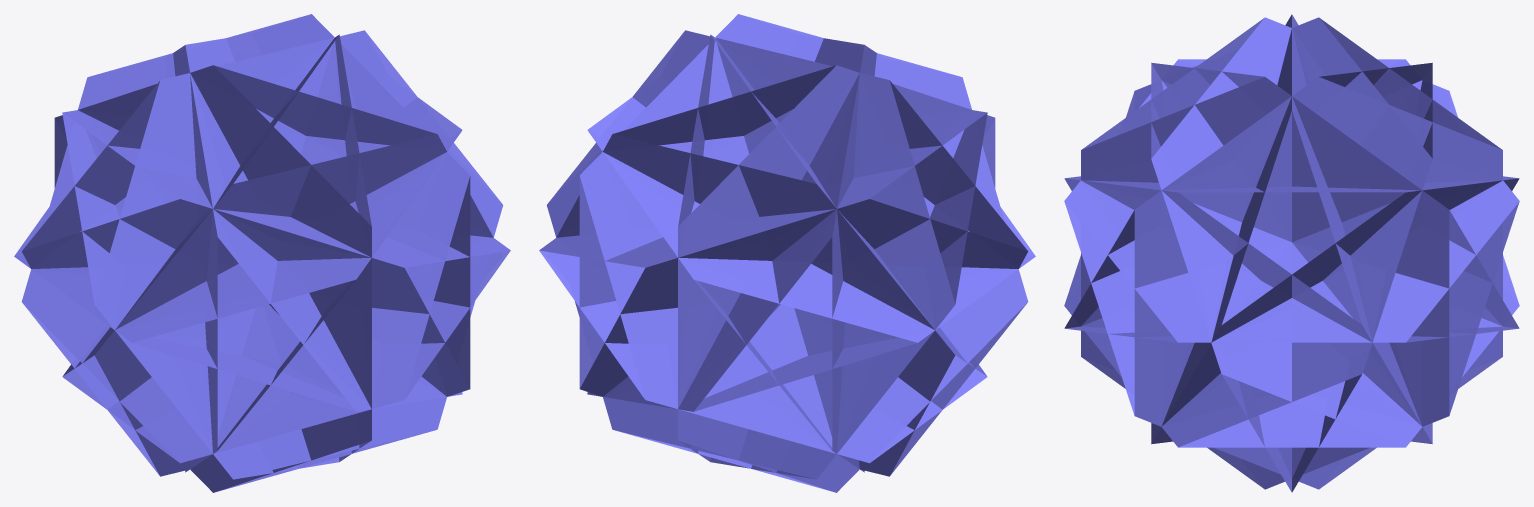
The model's file is TruncatedGreatIcosahedronA.obj.
3 views of the same model, side by side, from view 1: azimuth 30°, elevation 25°; view 2: azimuth 150°, elevation 25°; view 3: azimuth 270°, elevation 25° (orthographic). The views are drawn at different scales.
Bounding box in the file's own units: 2 × 2 × 2.
